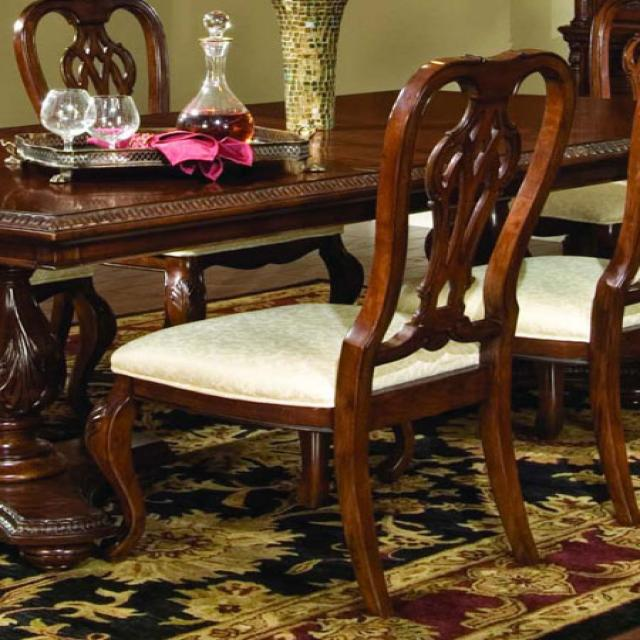chair: (89, 48, 576, 612), (408, 0, 638, 503)
